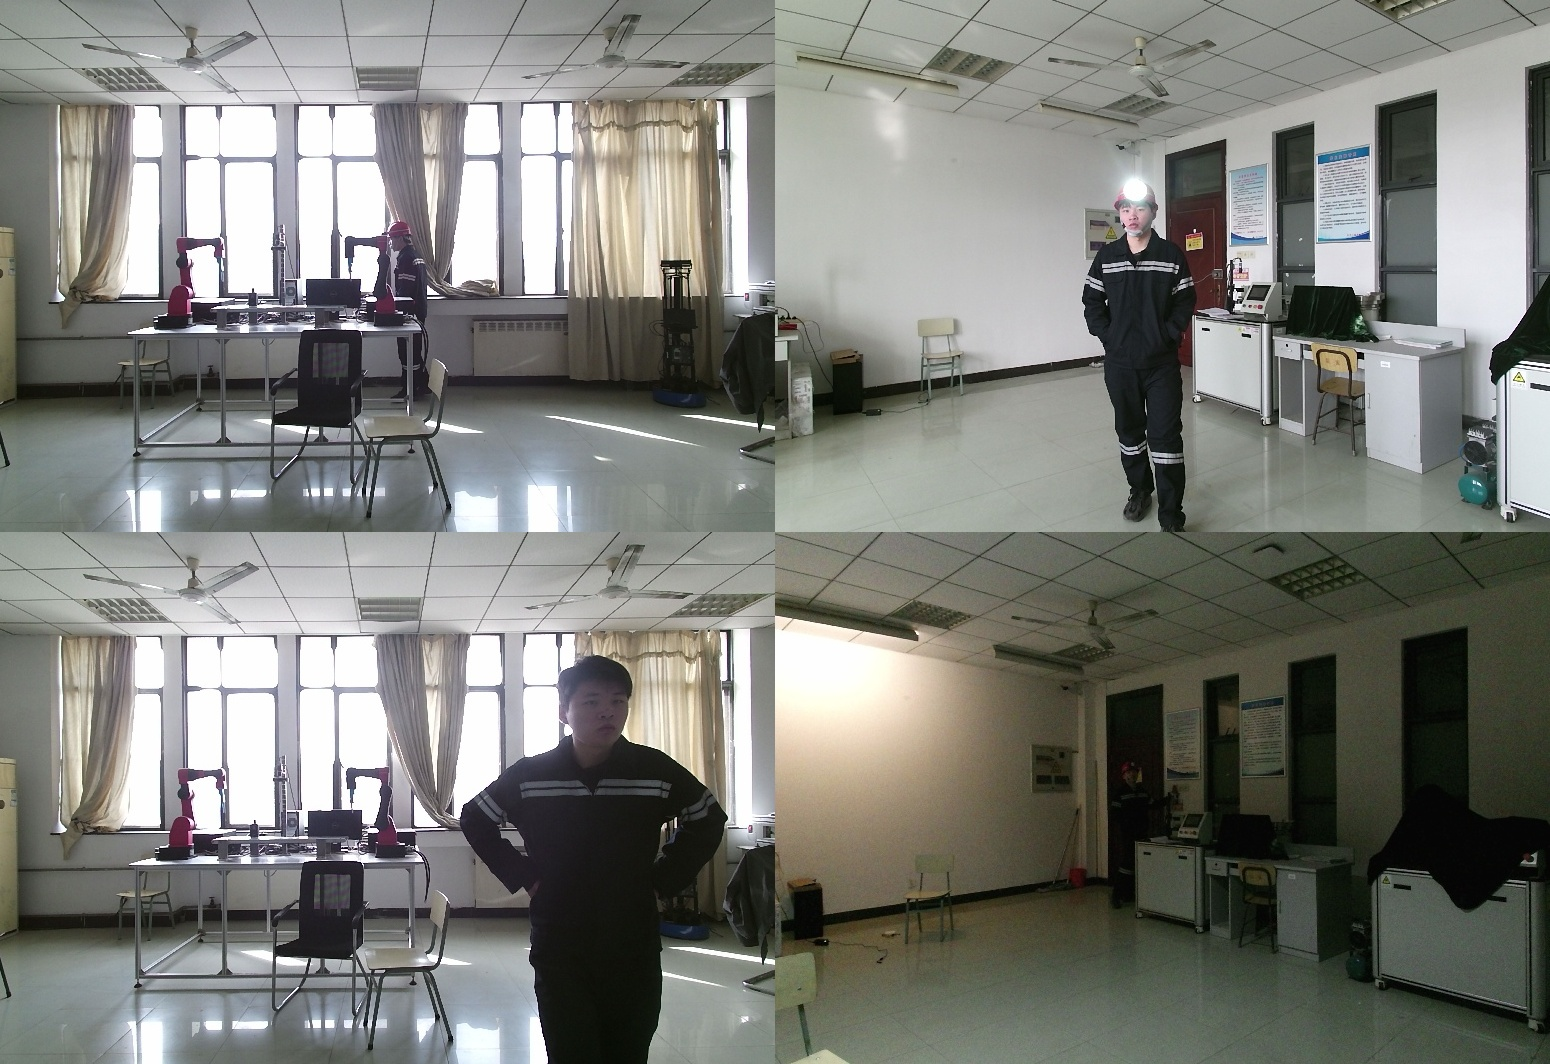person: (472, 660, 737, 1064), (1079, 182, 1209, 532), (1106, 761, 1169, 913), (383, 220, 428, 402)
